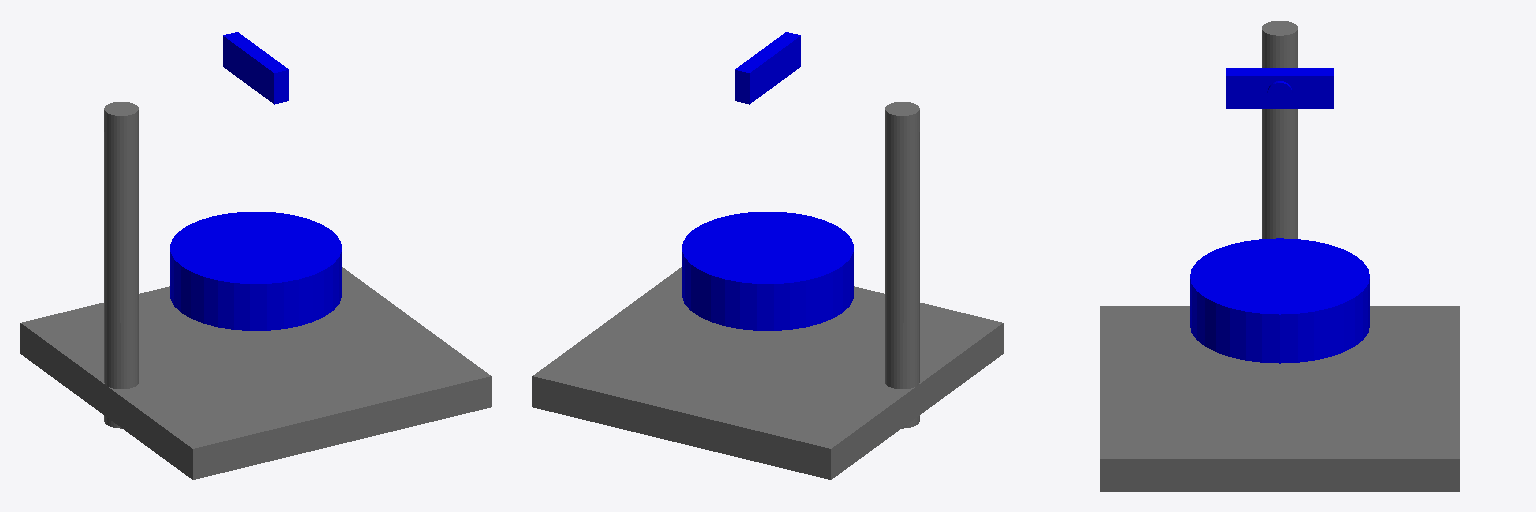
The robot description file, URDF, robot "test_robot":
<robot name="test_robot">
  <material name="gray">
    <color rgba="0.5 0.5 0.5 1.0"/>
  </material>
  <material name="blue">
    <color rgba="0.0 0.0 1.0 1.0"/>
  </material>

  <link name="base_link">
    <visual>
      <origin rpy="0 0 0" xyz="0 0 0.01"/>
      <geometry>
        <box size="0.2 0.2 0.02" />
      </geometry>
      <material name="gray"/>
    </visual>
  </link>

  <joint name="laser_joint" type="fixed">
    <parent link="base_link"/>
    <child  link="laser_link"/>
    <origin rpy="0 0 0" xyz="0 0 0.07"/>
  </joint>
  <link name="laser_link">
    <visual>
      <geometry>
        <cylinder radius="0.05" length="0.03" />
      </geometry>
      <material name="blue"/>
    </visual>
  </link>

  <joint name="camera_joint" type="fixed">
    <parent link="base_link"/>
    <child  link="camera_link"/>
    <origin rpy="0 0 0" xyz="0 0 0.2"/>
  </joint>
  <link name="camera_link">
    <visual>
      <geometry>
        <box size="0.01 0.06 0.02" />
      </geometry>
      <material name="blue"/>
    </visual>
    <visual>
      <origin rpy="0 1.5707 0" xyz="0.005 0 0"/>
      <geometry>
        <cylinder radius="0.007" length="0.005" />
      </geometry>
      <material name="blue"/>
    </visual>
  </link>

  <joint name="camera_optical_joint" type="fixed">
    <parent link="camera_link"/>
    <child  link="camera_optical_link"/>
    <origin rpy="-1.5707 0 -1.5707" xyz="0 0 0"/>
  </joint>
  <link name="camera_optical_link"/>

  <joint name="bar_joint" type="fixed">
    <parent link="base_link"/>
    <child  link="bar_link"/>
    <origin rpy="0 1.5707 0" xyz="-0.09 0 0.1"/>
  </joint>
  <link name="bar_link">
    <visual>
      <origin rpy="0 1.5707 0" xyz="0.005 0 0"/>
      <geometry>
        <cylinder radius="0.01" length="0.2" />
      </geometry>
      <material name="gray"/>
    </visual>
  </link>
</robot>

--- Facts derived from the render (not from the file) ---
3 views of the same robot in one strip: view 1: azimuth 30°, elevation 25°; view 2: azimuth 150°, elevation 25°; view 3: azimuth 270°, elevation 25° (orthographic).
Model test_robot with 5 links and 4 joints (4 fixed), rooted at base_link, posed all joints at 0.
Visible links, largest first — view 1: base_link, laser_link, bar_link, camera_link; view 2: base_link, laser_link, bar_link, camera_link; view 3: base_link, laser_link, bar_link, camera_link.
Link boxes in pixels (<box>): base_link: <box>20,267,491,479</box>; laser_link: <box>170,212,341,330</box>; bar_link: <box>104,102,138,428</box>; camera_link: <box>223,32,288,104</box>; base_link: <box>532,267,1003,479</box>; laser_link: <box>682,212,853,330</box>; bar_link: <box>885,102,919,428</box>; camera_link: <box>735,32,800,104</box>; base_link: <box>1100,306,1459,491</box>; laser_link: <box>1190,238,1369,363</box>; bar_link: <box>1262,21,1297,238</box>; camera_link: <box>1226,68,1333,108</box>.
Bounding box of the posed robot: 0.2 × 0.2 × 0.215 m (x, y, z).
Geometry: primitives only (box / cylinder / sphere), no mesh files.